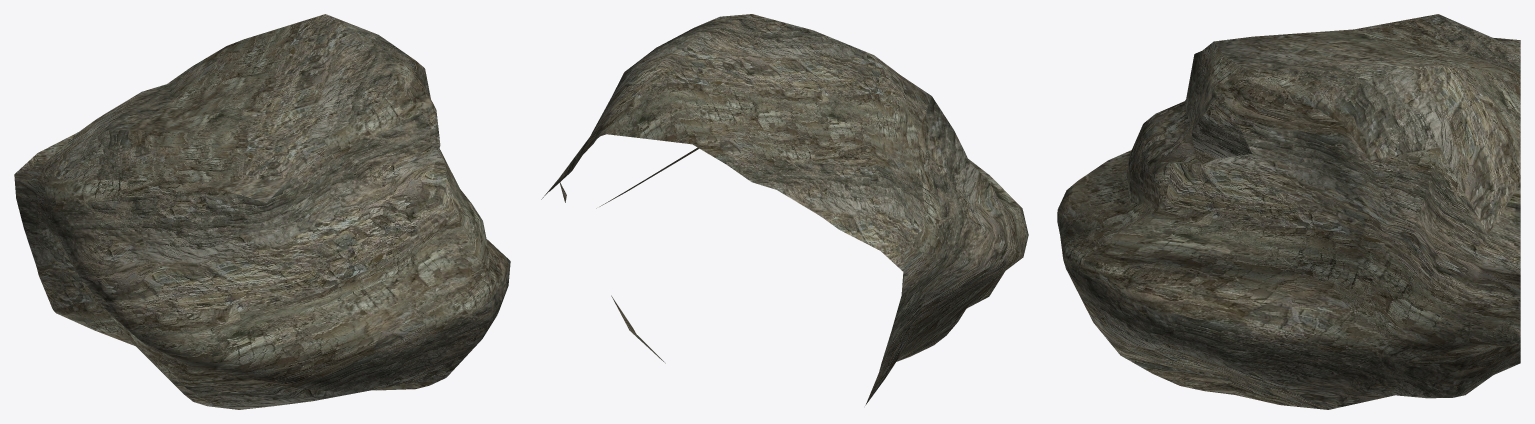
The model's file is duhoc_halfrock2.glb.
3 renders of one model, left to right at view 1: azimuth 30°, elevation 25°; view 2: azimuth 150°, elevation 25°; view 3: azimuth 270°, elevation 25°, orthographic. The views are drawn at different scales.
Bounding box in the file's own units: 15.3 × 11.66 × 13.99.
1 material, 1 textured.
